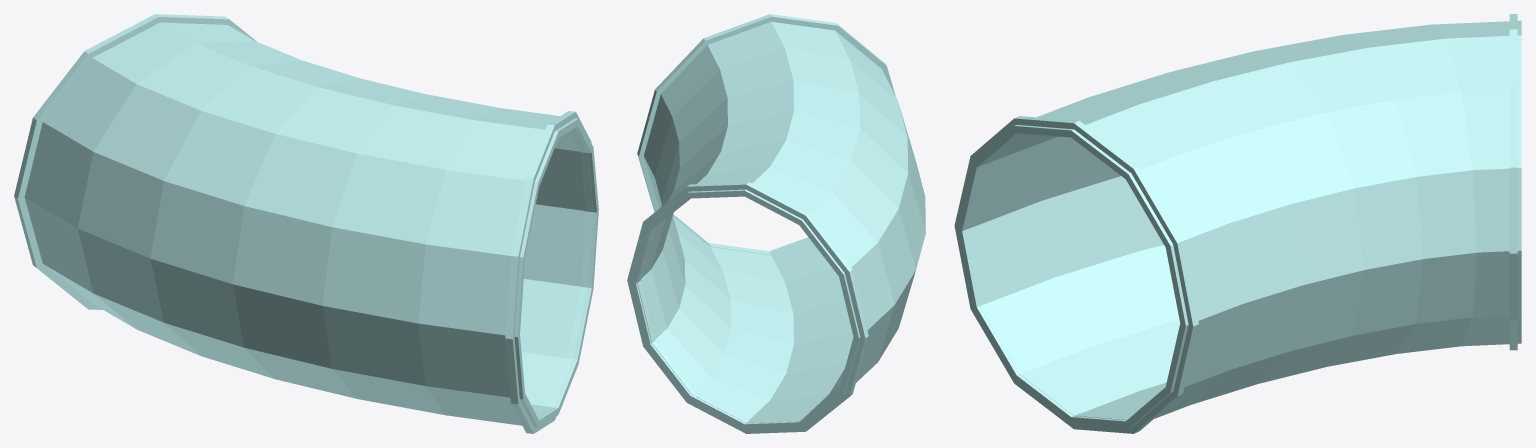
File: tube_curve_right.glb
3 renders of one model, left to right at view 1: azimuth 30°, elevation 25°; view 2: azimuth 150°, elevation 25°; view 3: azimuth 270°, elevation 25°, orthographic. The views are drawn at different scales.
Visible parts, largest first — view 1: Curved_Glass_Shell, Diagonal_Collar, North_Collar; view 2: Curved_Glass_Shell, North_Collar, Diagonal_Collar; view 3: Curved_Glass_Shell, Diagonal_Collar, North_Collar.
Boxes of the visible parts, bbox=[...] form: Curved_Glass_Shell: bbox=[24, 22, 598, 427]; Diagonal_Collar: bbox=[505, 111, 593, 433]; North_Collar: bbox=[14, 14, 256, 309]; Curved_Glass_Shell: bbox=[630, 21, 925, 429]; North_Collar: bbox=[627, 182, 868, 433]; Diagonal_Collar: bbox=[637, 14, 895, 255]; Curved_Glass_Shell: bbox=[956, 20, 1521, 428]; Diagonal_Collar: bbox=[954, 116, 1198, 433]; North_Collar: bbox=[1509, 14, 1517, 350].
Size of the model in its own units: 2.27 by 1.5 by 2.52.
Materials: 2 (2 with a texture image).
